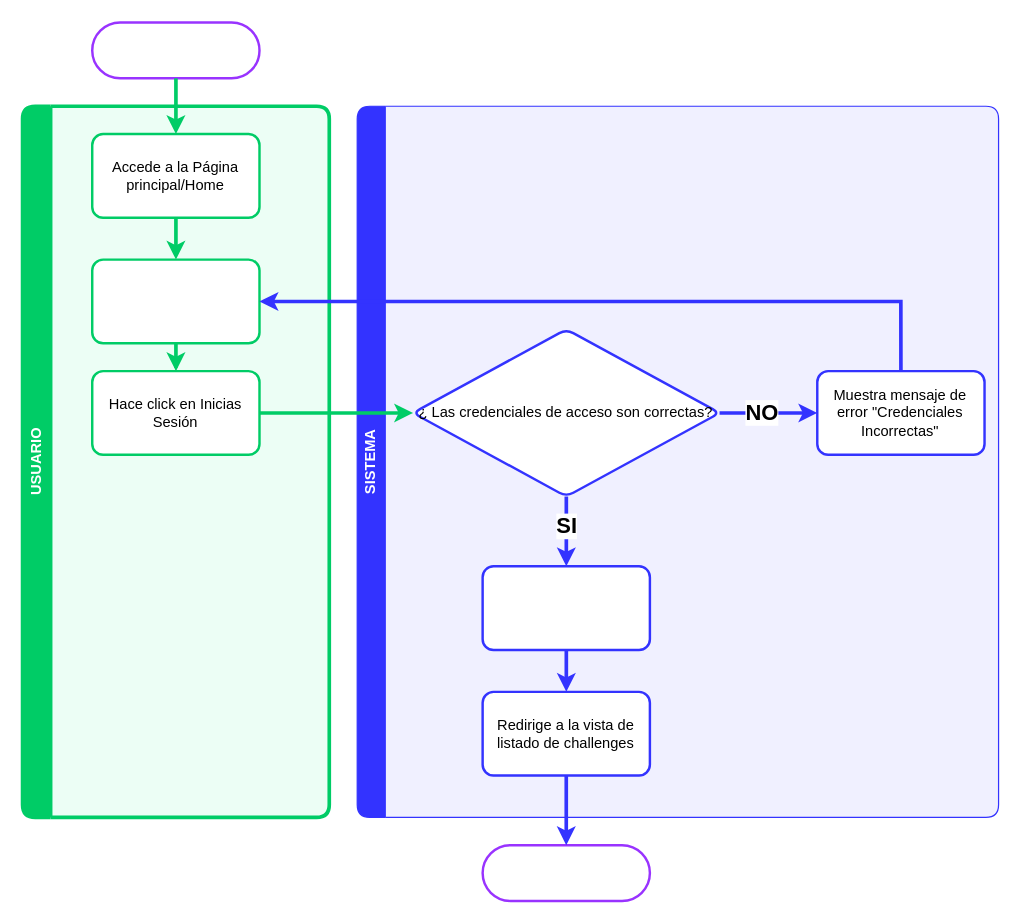
Some shapes in this 1020 by 922 pixel diagram are drawn without their labels. The box of each missing label's shape, as (x1, y1, x2, y2) in pixels:
Acceso concedido: (481, 564, 651, 651)
Fin: Sesión Iniciada: (481, 843, 651, 902)
Ingresa sus credenciales de acceso: (90, 258, 260, 344)
Inicio: (90, 21, 260, 79)
